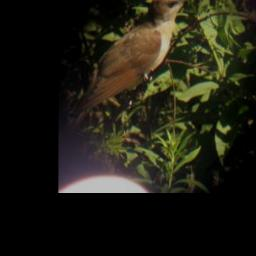Cuckoo: (63, 0, 195, 138)
